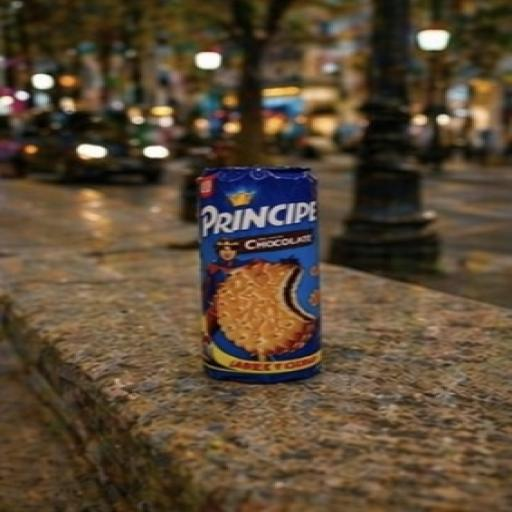prince: (101, 119, 297, 415)
